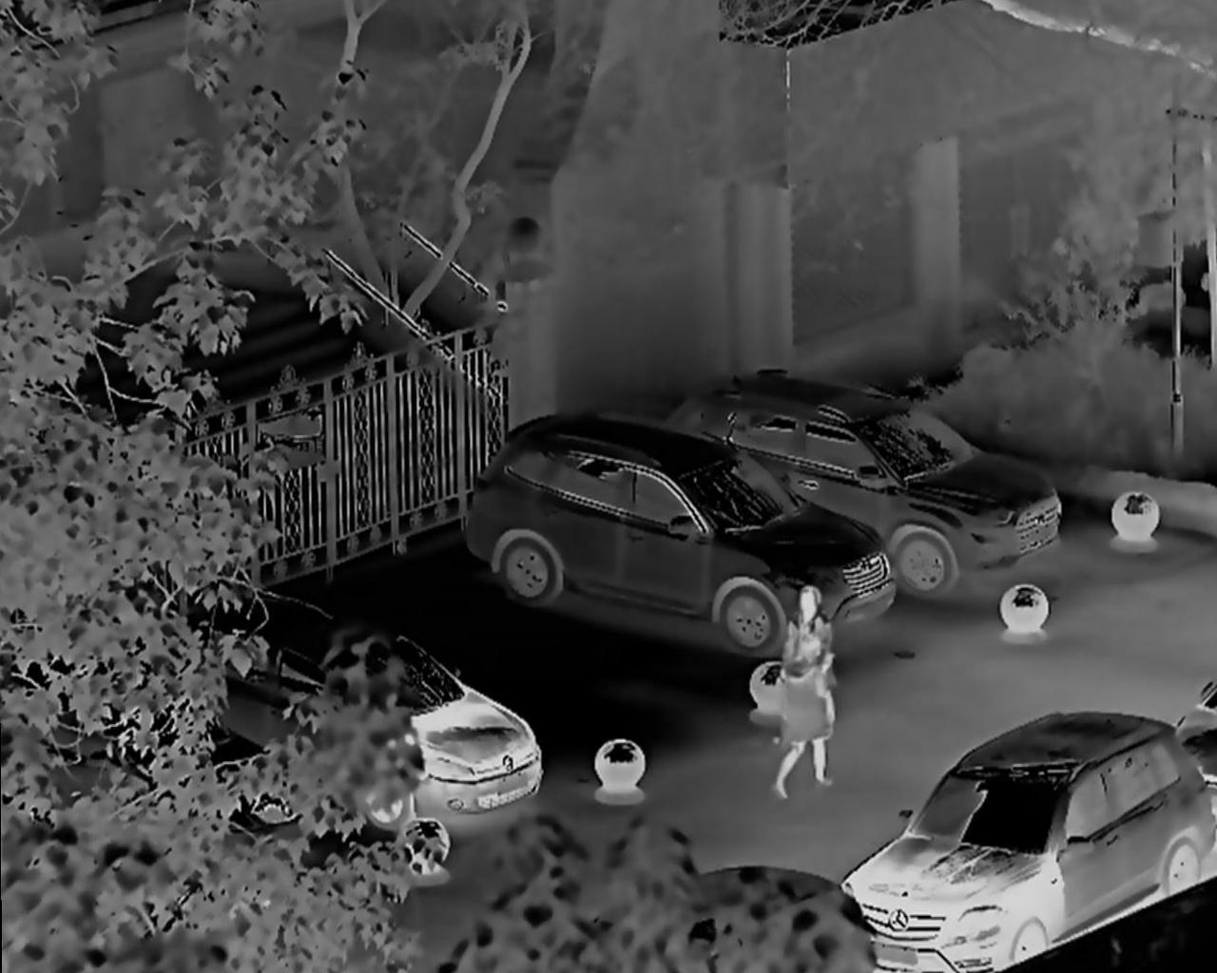person: (778, 620, 842, 791), (788, 582, 837, 695)
